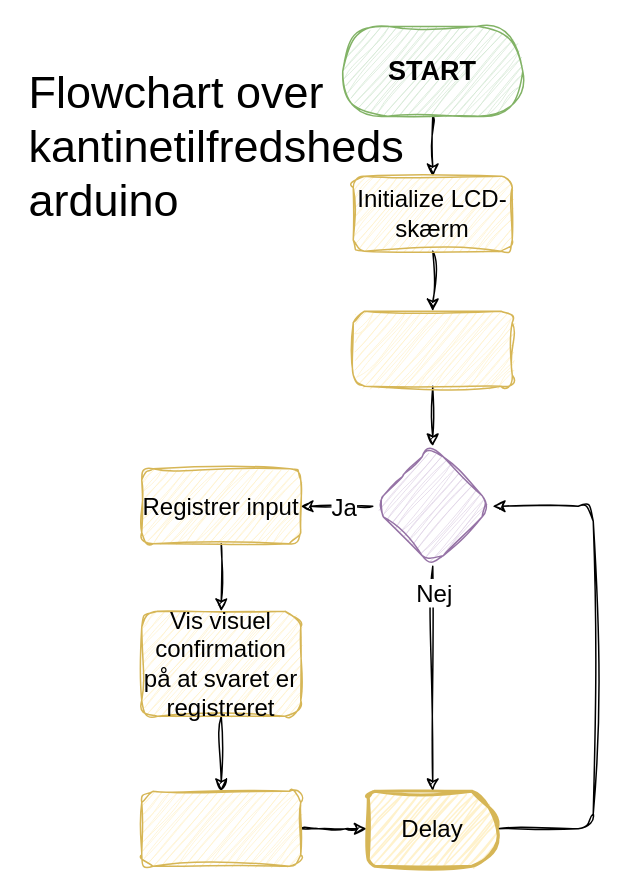
The diagram is 632 pixels wide and 896 high, and some of its shapes have lost their labels. The shapes that lost their labels are listed below. From the top down, each one's centre as x and y in pixels, then its label:
At pixel 432 348: "Vis klar til input på displayet".
At pixel 432 505: "Input detected?".
At pixel 220 828: "Vidresend input til computer".
